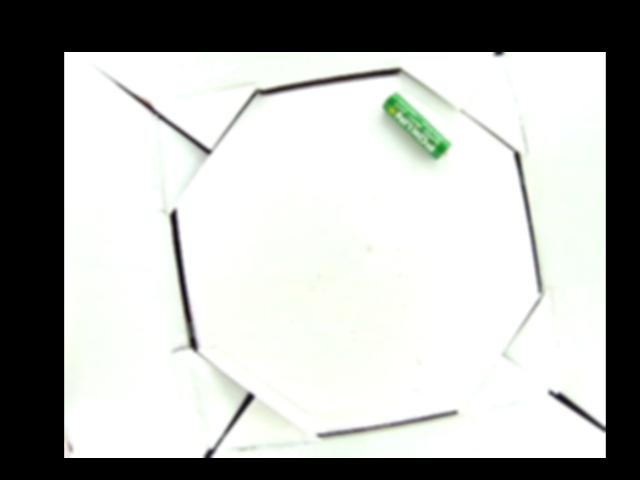Battery: (379, 91, 452, 159)
